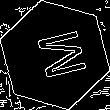M_W: (25, 27, 85, 83)
